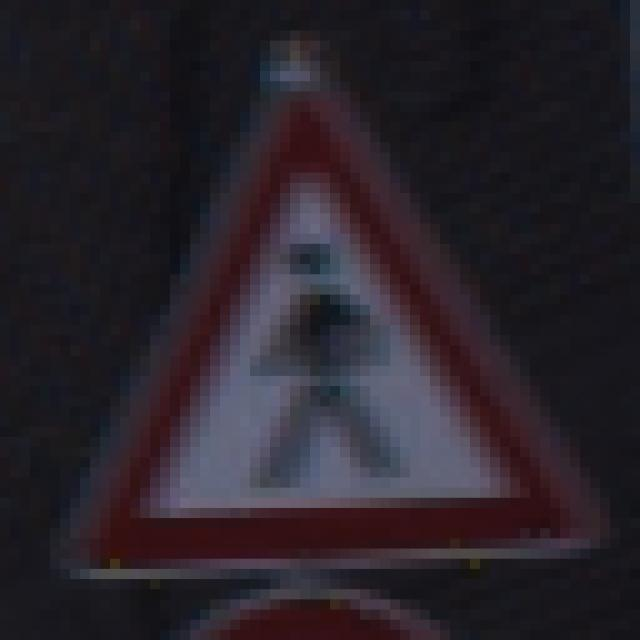pedestrian crossing: (60, 89, 609, 565)
